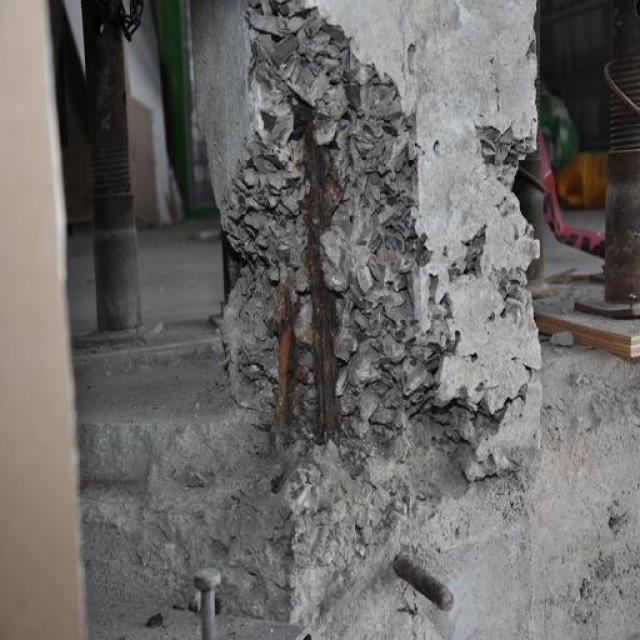D0w0: (224, 0, 450, 436)
